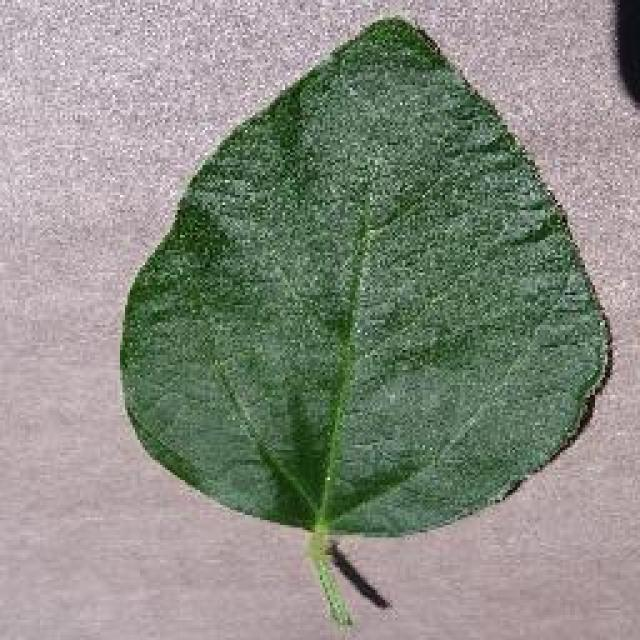Soy_healthy: (132, 68, 581, 486)
